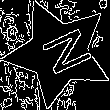N_SW: (27, 24, 90, 82)
